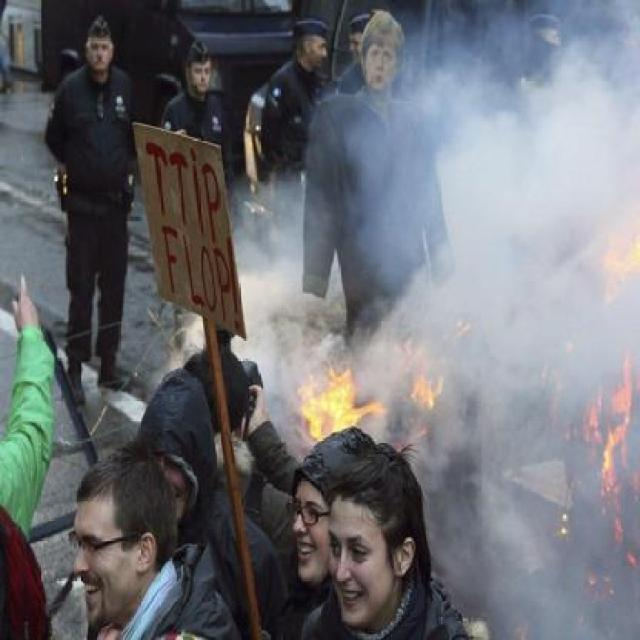Fire: (568, 367, 638, 588), (303, 366, 383, 441), (395, 376, 443, 454)
Smoke: (352, 10, 640, 370), (448, 375, 556, 640), (245, 188, 351, 366), (562, 591, 640, 640)
